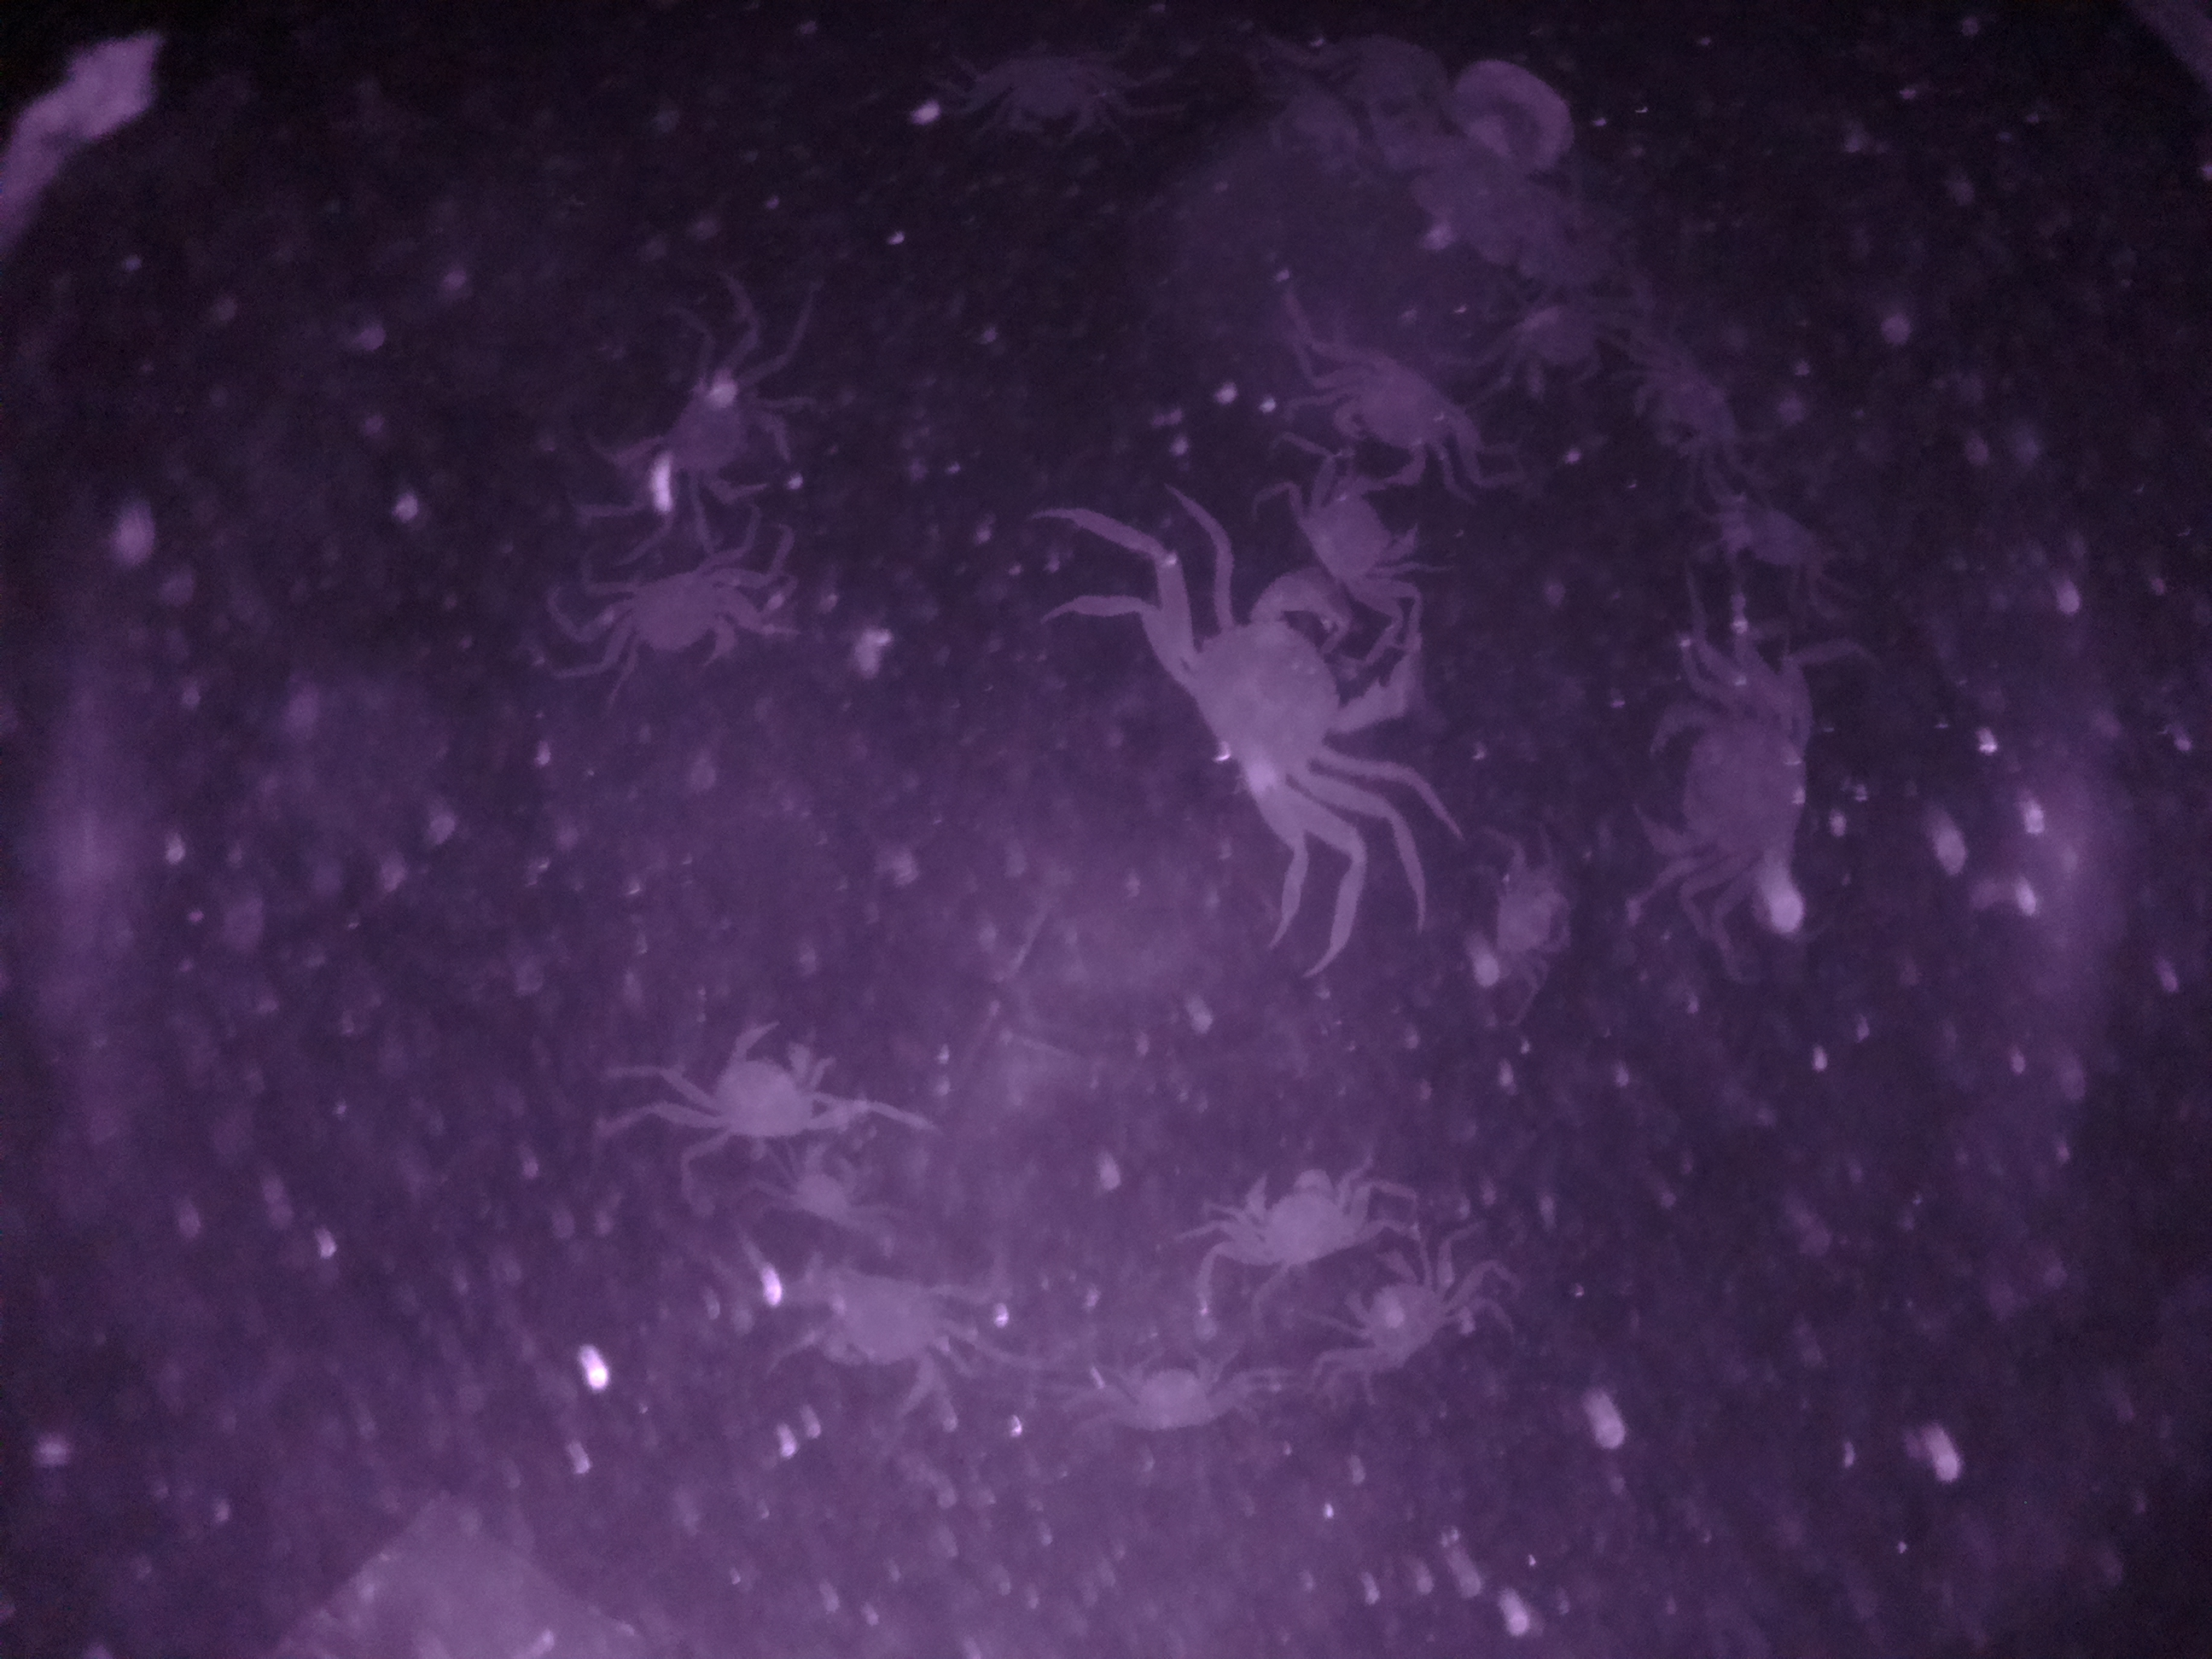Crab: (1143, 556, 1439, 838), (1618, 664, 1844, 911), (667, 995, 857, 1162), (636, 357, 820, 521), (1306, 349, 1494, 500), (1202, 1143, 1383, 1288), (1322, 1243, 1482, 1392)
